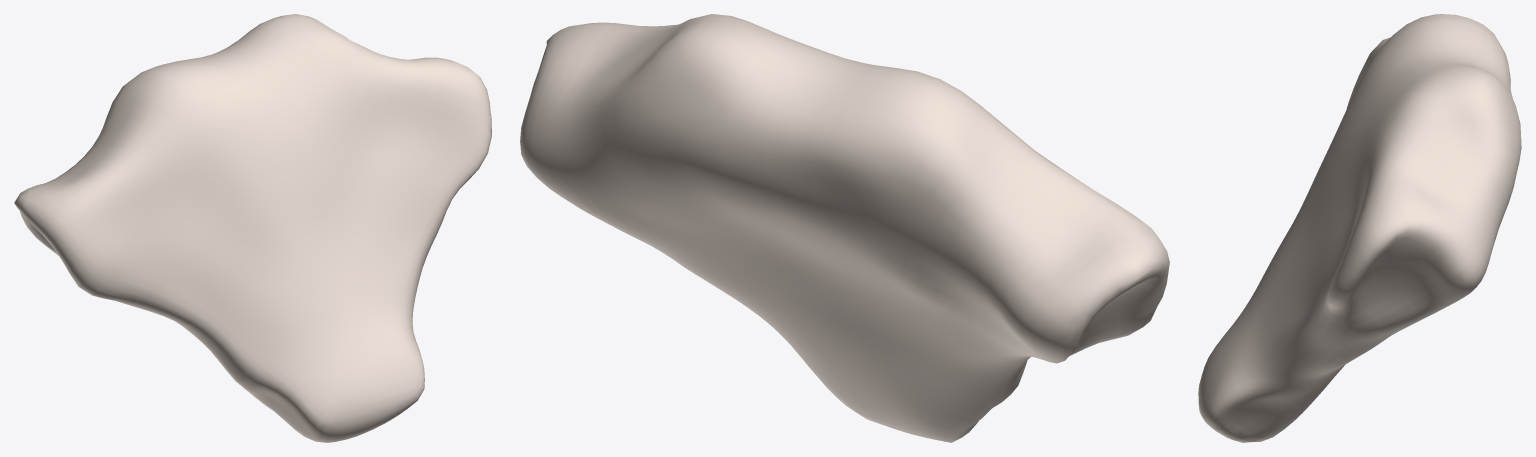
File: 3d-vh-f-manubrium.glb
The picture shows the model from 3 angles, left to right: view 1: azimuth 30°, elevation 25°; view 2: azimuth 150°, elevation 25°; view 3: azimuth 270°, elevation 25°; orthographic projection. The views are drawn at different scales.
Parts seen in each view (by area): view 1: VH_F_manubrium; view 2: VH_F_manubrium; view 3: VH_F_manubrium.
Part boxes in pixels (box(x1,y1,x2,y2)): VH_F_manubrium: box(14, 14, 491, 442); VH_F_manubrium: box(520, 14, 1169, 442); VH_F_manubrium: box(1198, 14, 1521, 442).
Size of the model in its own units: 0.0721 by 0.0523 by 0.0403.
